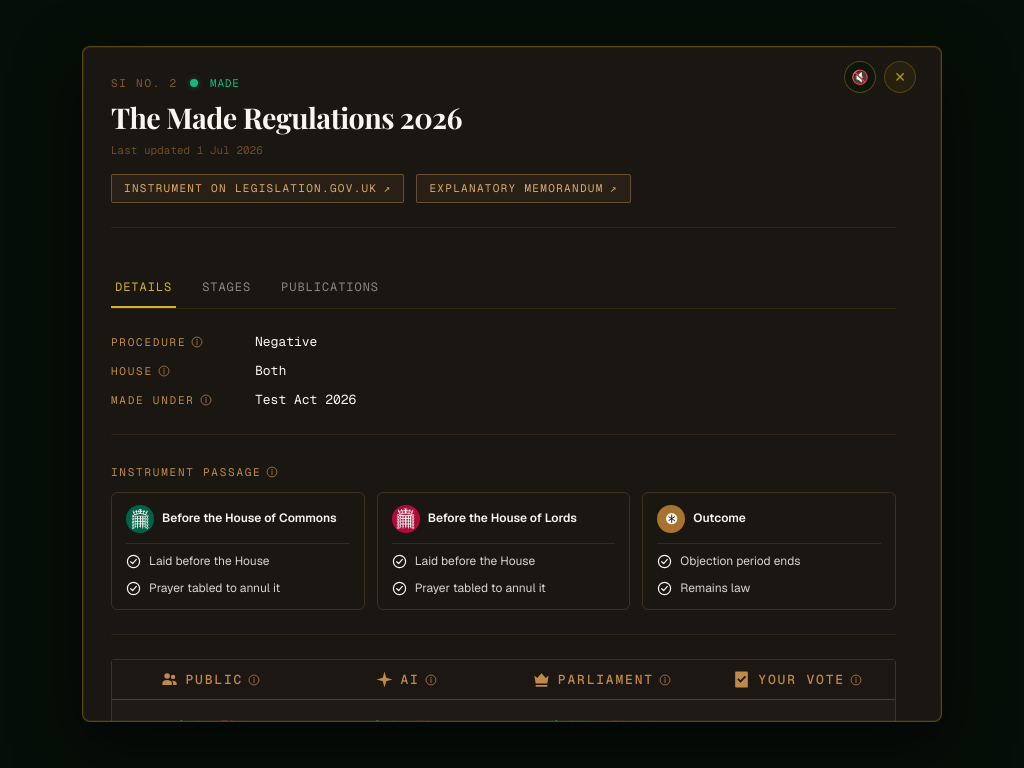
Test: RegulationDetailModal › renders the step history on the Stages tab
This screenshot has width=1024, height=768.
Click the tab "Stages": (227, 289) x1=198 y1=270 x2=255 y2=308
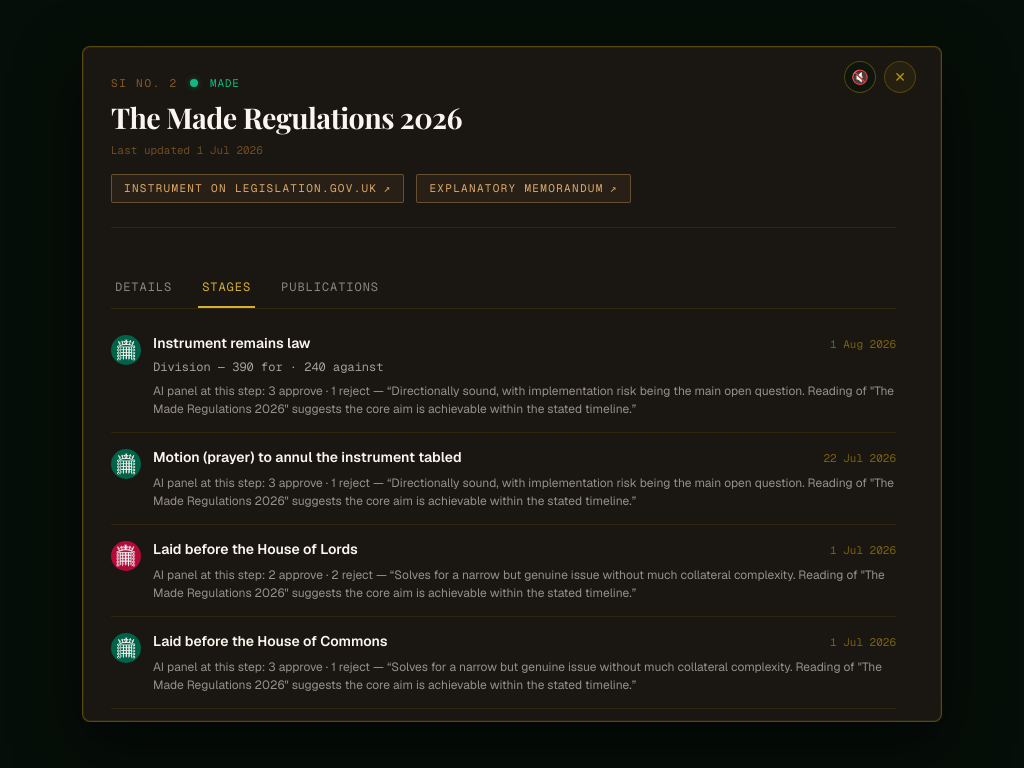
expect the list item that starts with "Instrument remains law" is shown: met, box x1=111 y1=333 x2=896 y2=433
